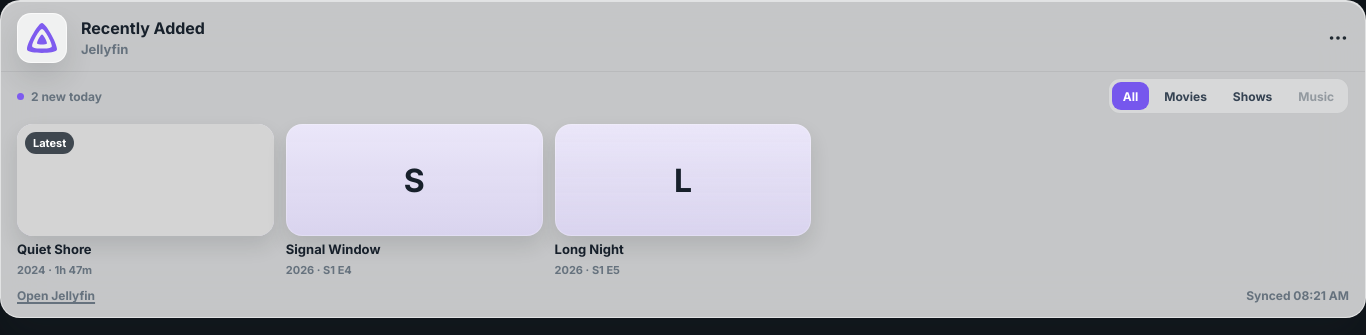
it: EnhancedWidgetRenderer › renders Jellyfin recent media as a filterable poster row
The image size is (1366, 335).
Expected: the text "2 new today" is shown, [17, 88, 102, 104]
Expected: the text "Latest" is shown, [25, 132, 74, 154]
Click the button "Shows" at x=1253, y=96, box [1222, 82, 1283, 110]
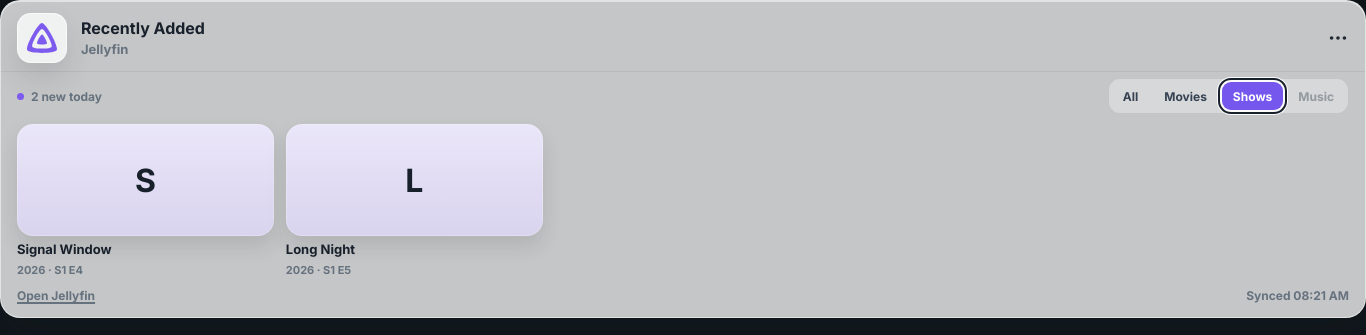
Expected: the text "Signal Window" is shown, [17, 241, 112, 257]
Expected: the link "Quiet Shore" is gone
